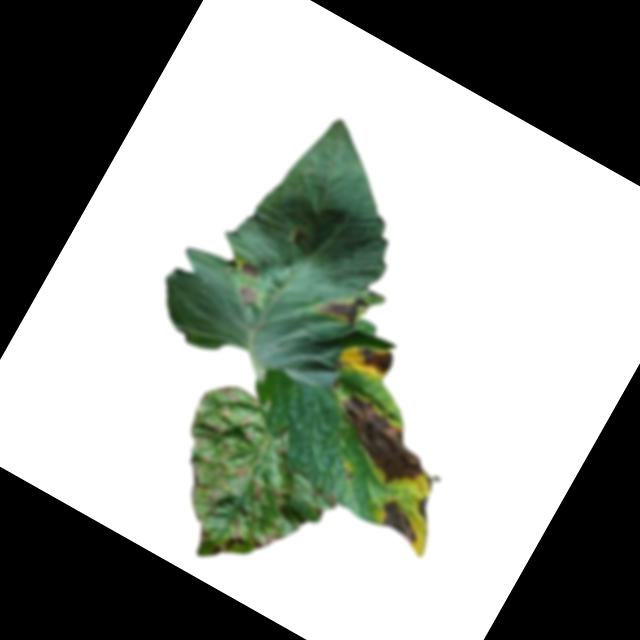Early_blight: (314, 385, 444, 499), (314, 279, 373, 334), (374, 496, 430, 545), (353, 336, 403, 381), (211, 512, 253, 563), (246, 517, 288, 557), (237, 254, 267, 282), (413, 492, 440, 523), (234, 280, 261, 307)
